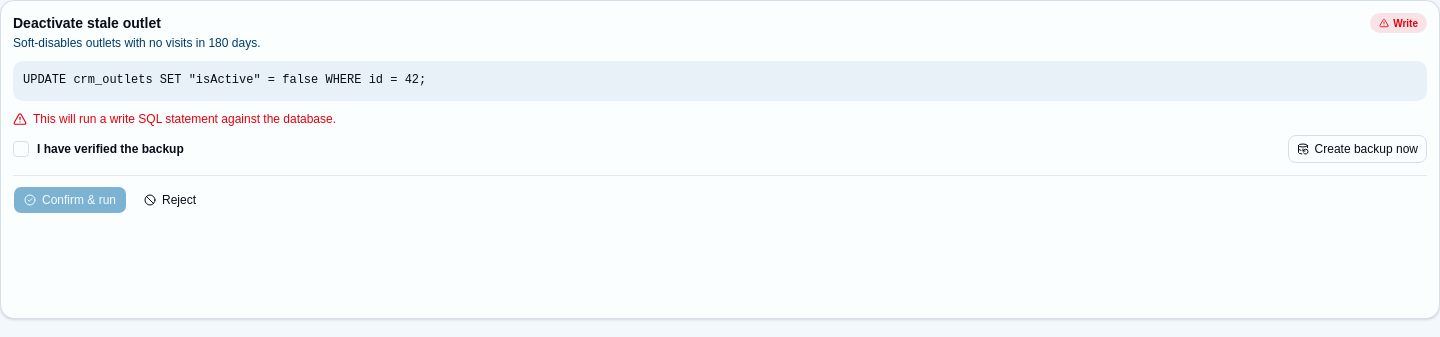
Scenario: ChatConfirmCard › prefers the freshest in-session result over the reload prop
Click the checkbox named "I have verified the backup" at (21, 148), box [13,140,29,156]
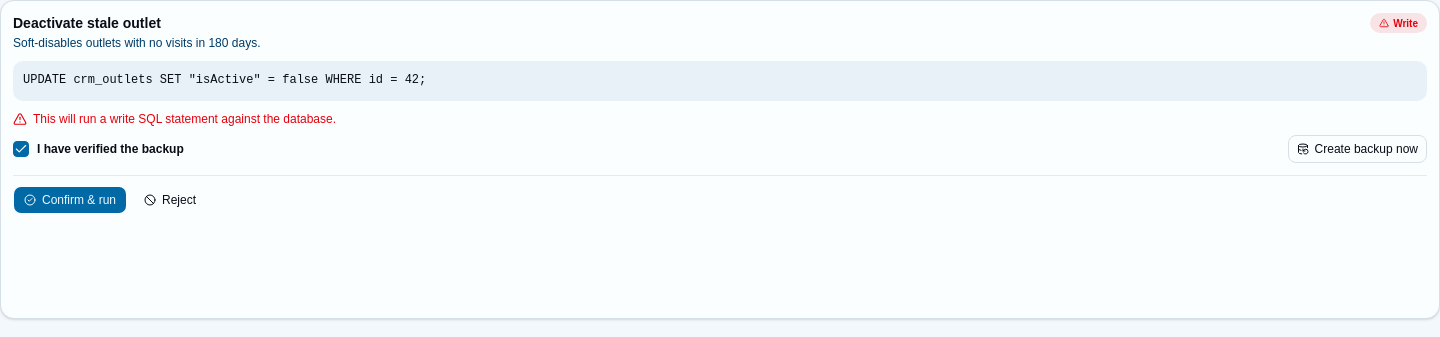
Click the button "Confirm & run" at (70, 200), box [13,186,127,214]
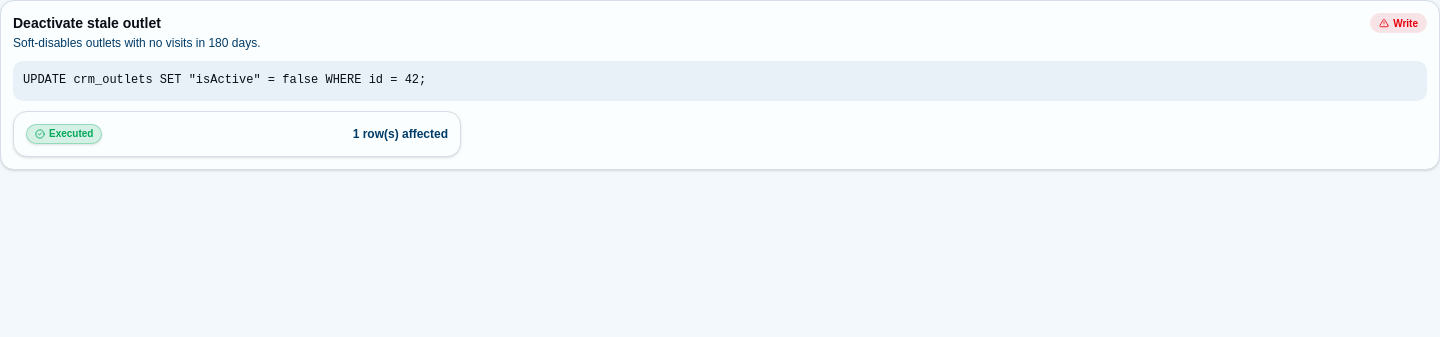
Check: the text "1 row(s) affected" is shown, box [353,126,448,142]
